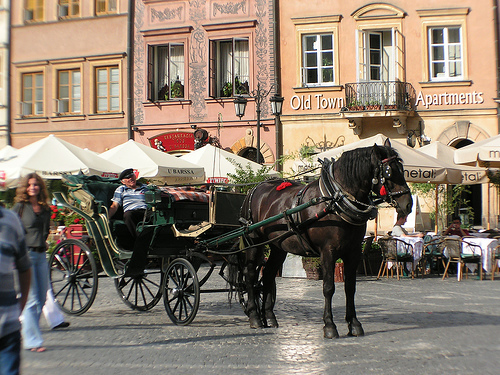horse: (236, 142, 413, 339)
